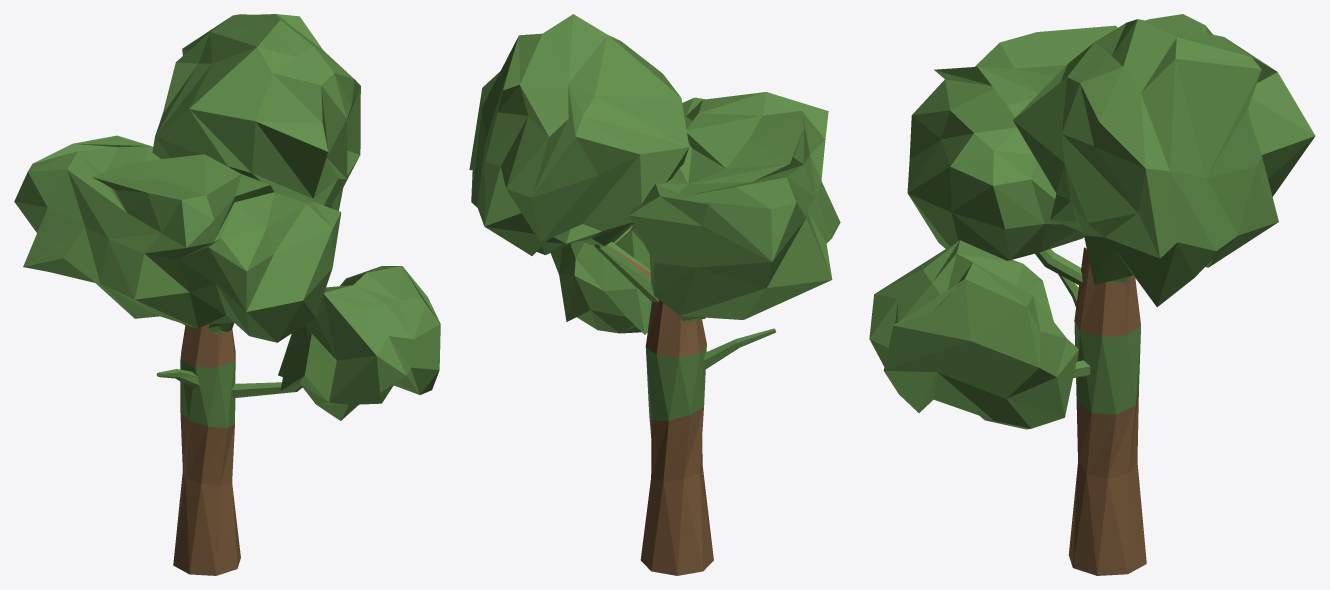
File: tree3d-078.glb
The picture shows the model from 3 angles, left to right: view 1: azimuth 30°, elevation 25°; view 2: azimuth 150°, elevation 25°; view 3: azimuth 270°, elevation 25°; orthographic projection. The views are drawn at different scales.
Visible parts, largest first — view 1: tree3d-078; view 2: tree3d-078; view 3: tree3d-078.
Part boxes in pixels (x1,y1,x2,y2): tree3d-078: [14, 14, 440, 575]; tree3d-078: [469, 14, 840, 575]; tree3d-078: [869, 14, 1315, 575].
Size of the model in its own units: 0.7008 by 1 by 0.6867.
